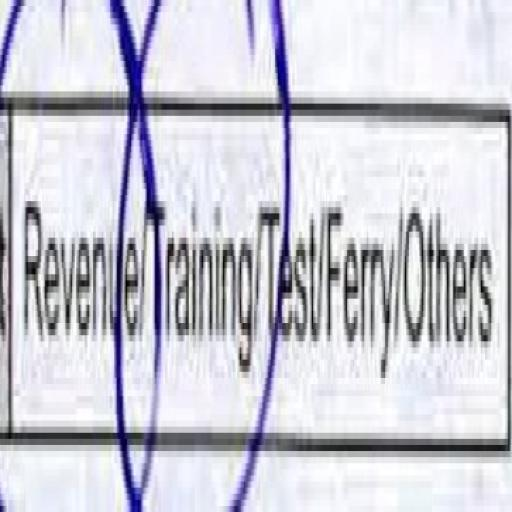check: (0, 0, 139, 512), (143, 0, 262, 512)
